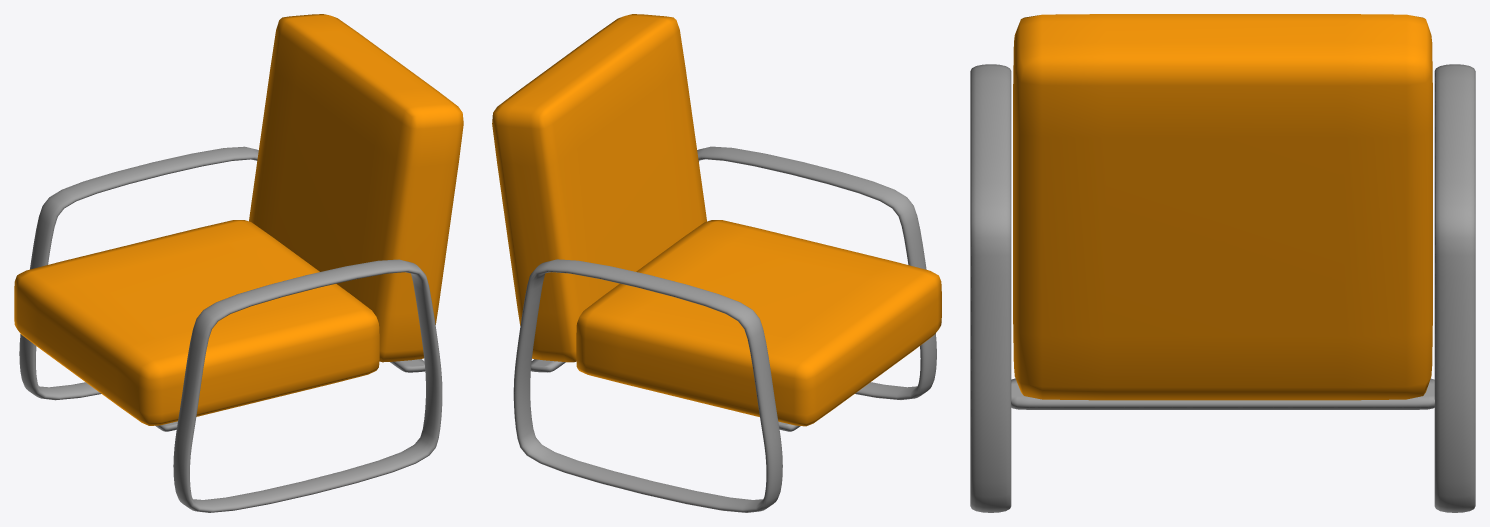
The model's file is Bergere01.fbx.
3 views of the same model, side by side, from view 1: azimuth 30°, elevation 25°; view 2: azimuth 150°, elevation 25°; view 3: azimuth 270°, elevation 25° (orthographic). The views are drawn at different scales.
Parts seen in each view (by area): view 1: Bergere01; view 2: Bergere01; view 3: Bergere01.
Part boxes in pixels (x1,y1,x2,y2): Bergere01: [14, 14, 463, 512]; Bergere01: [492, 14, 941, 512]; Bergere01: [970, 14, 1475, 512].
Bounding box in the file's own units: 0.5999 × 0.5407 × 0.6111.
